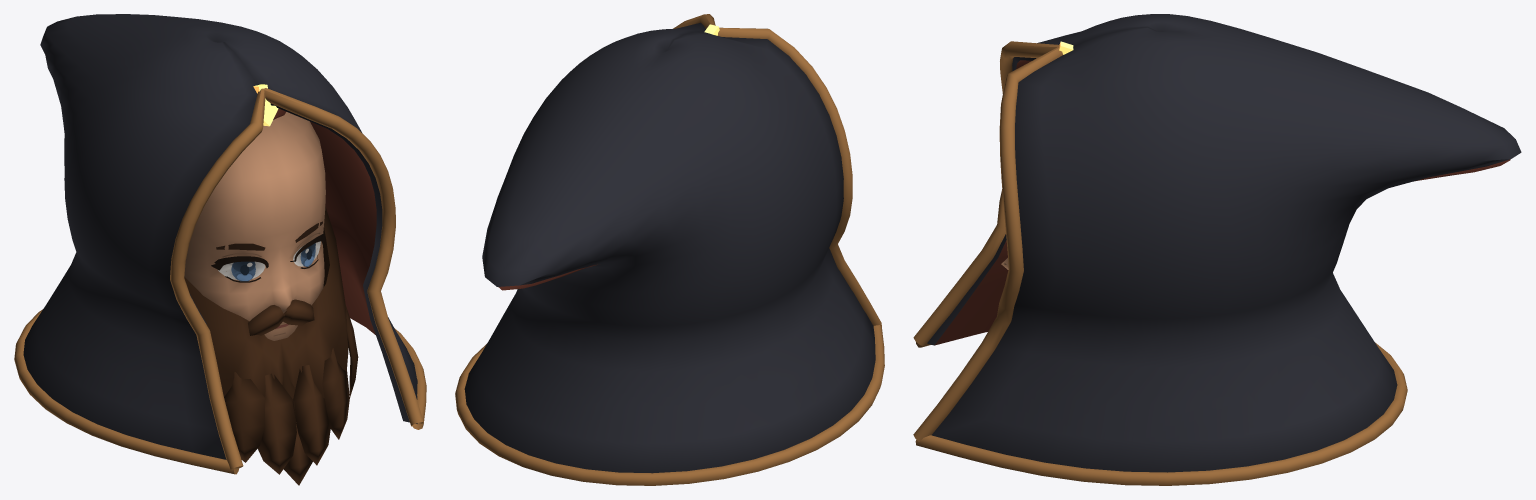
The model's file is h_ember_d.glb.
The picture shows the model from 3 angles, left to right: view 1: azimuth 30°, elevation 25°; view 2: azimuth 150°, elevation 25°; view 3: azimuth 270°, elevation 25°; orthographic projection. The views are drawn at different scales.
Parts seen in each view (by area): view 1: Hood, HeadMesh, BeardLocks, Beard, Mustache, LashR; view 2: Hood; view 3: Hood.
Boxes of the visible parts, x1,y1,x2,y2 form: Hood: [14, 14, 426, 474]; HeadMesh: [184, 112, 325, 340]; BeardLocks: [224, 303, 358, 485]; Beard: [184, 206, 348, 398]; Mustache: [248, 299, 314, 335]; LashR: [211, 256, 268, 282]; Hood: [455, 14, 884, 485]; Hood: [913, 14, 1521, 485].
Bounding box in the file's own units: 0.3784 × 0.4128 × 0.5295.
